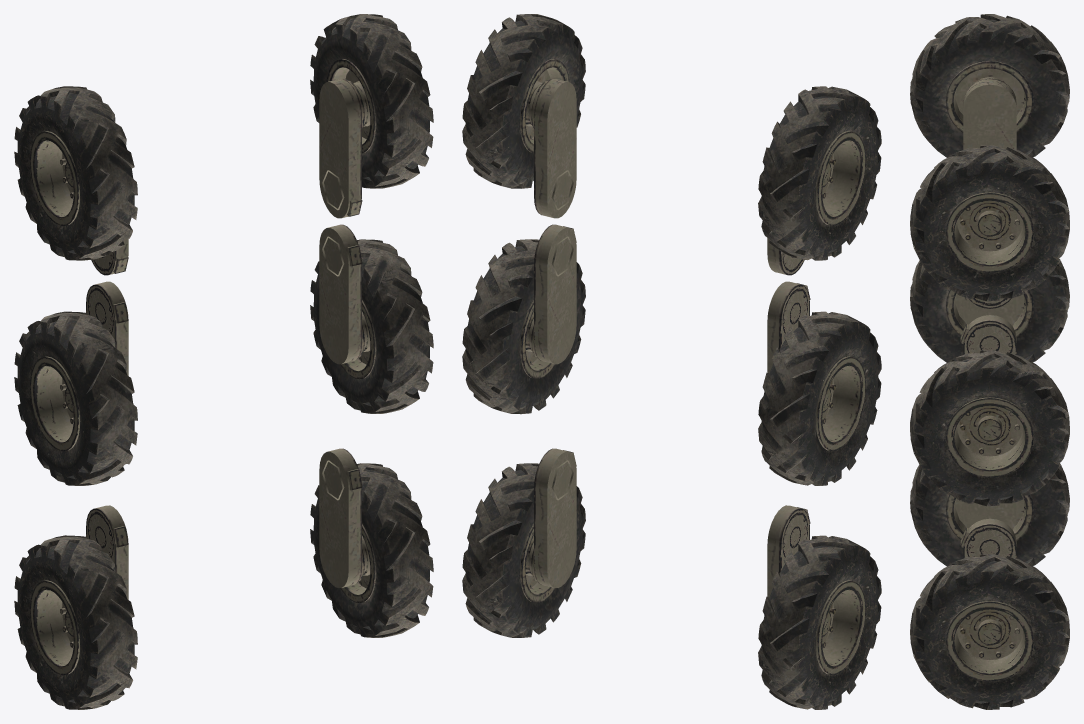
The model's file is Chassis.glb.
3 renders of one model, left to right at view 1: azimuth 30°, elevation 25°; view 2: azimuth 150°, elevation 25°; view 3: azimuth 270°, elevation 25°, orthographic. The views are drawn at different scales.
Visible parts, largest first — view 1: set_3_group_1, set_2_group_1, set_0_group_0, set_3_group_0, set_1_group_0, set_2_group_0; view 2: set_3_group_1, set_2_group_1, set_0_group_0, set_3_group_0, set_1_group_0, set_2_group_0; view 3: set_2_group_1, set_3_group_1, set_2_group_0, set_3_group_0, set_1_group_0, set_0_group_0.
Part boxes in pixels (<box>): set_3_group_1: <box>14,86,137,709</box>; set_2_group_1: <box>310,14,433,637</box>; set_0_group_0: <box>319,79,367,587</box>; set_3_group_0: <box>30,131,80,675</box>; set_1_group_0: <box>86,238,128,599</box>; set_2_group_0: <box>326,59,375,602</box>; set_3_group_1: <box>758,86,881,709</box>; set_2_group_1: <box>462,14,585,637</box>; set_0_group_0: <box>528,78,576,587</box>; set_3_group_0: <box>816,131,865,675</box>; set_1_group_0: <box>767,238,810,597</box>; set_2_group_0: <box>520,59,569,602</box>; set_2_group_1: <box>910,145,1069,709</box>; set_3_group_1: <box>910,14,1069,566</box>; set_2_group_0: <box>946,192,1033,681</box>; set_3_group_0: <box>946,61,1033,541</box>; set_1_group_0: <box>963,78,1016,529</box>; set_0_group_0: <box>960,297,1016,558</box>.
Bounding box in the file's own units: 2.92 × 4.95 × 1.3.
Materials: 6 (6 with a texture image).
